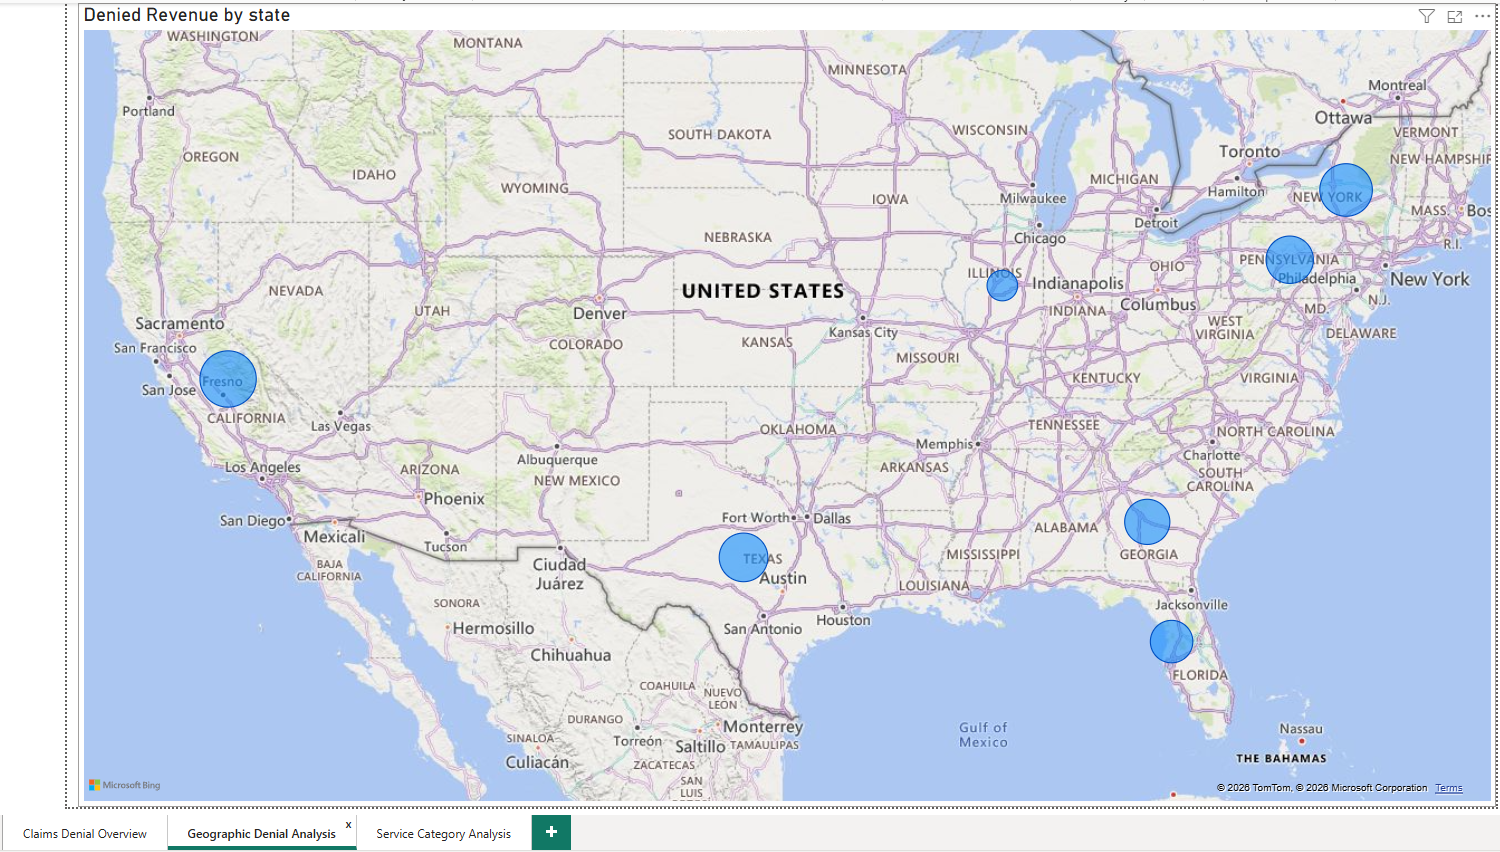

This screenshot's page, from the dashboard's own definition file:
{"tool":"powerbi","page":{"name":"Geographic Denial Analysis","canvas":[1280,720],"ordinal":1},"visuals":[{"type":"map","fields":{"Category":["vw_claims_clean.state"],"Size":["denial_reasons.Denied Revenue"]},"box":[10,0,1270,720.3],"z":0}]}

Visuals, with their boxes on the page's 1280x720 design canvas (x1, y1, x2, y2). These are canvas units, not pixel positions in the 1500x852 screenshot, which may show the page scaled, cropped or inside an application window:
map - vw_claims_clean.state x denial_reasons.Denied Revenue: 10 0 1280 720
